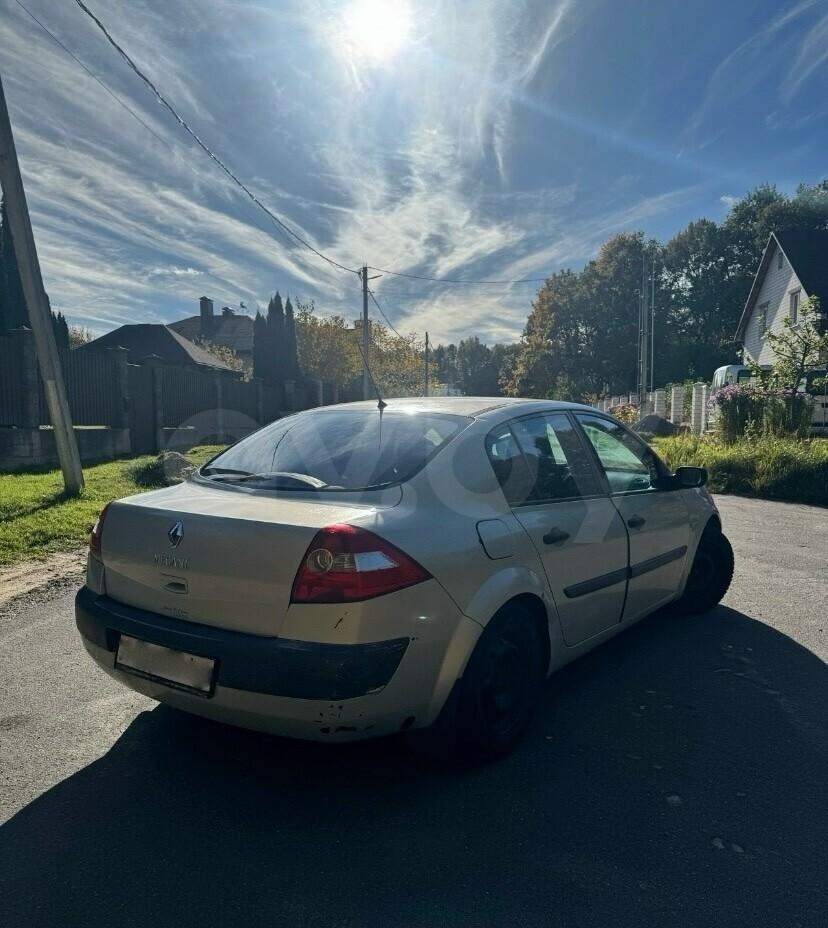Megane_2002-2006: (79, 384, 745, 766)
